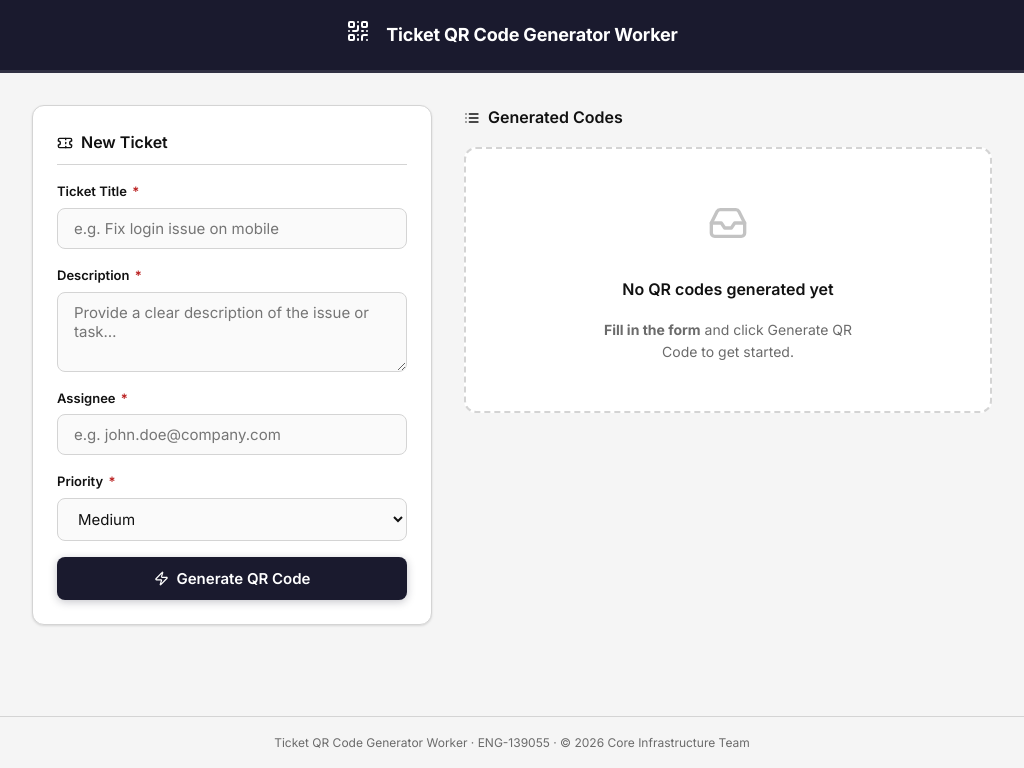
Scenario: App — Unhappy Path › shows validation errors when submitting empty form
This screenshot has width=1024, height=768.
Step 1. Click the button "Generate QR Code" → (232, 579), box [57,557,407,600]
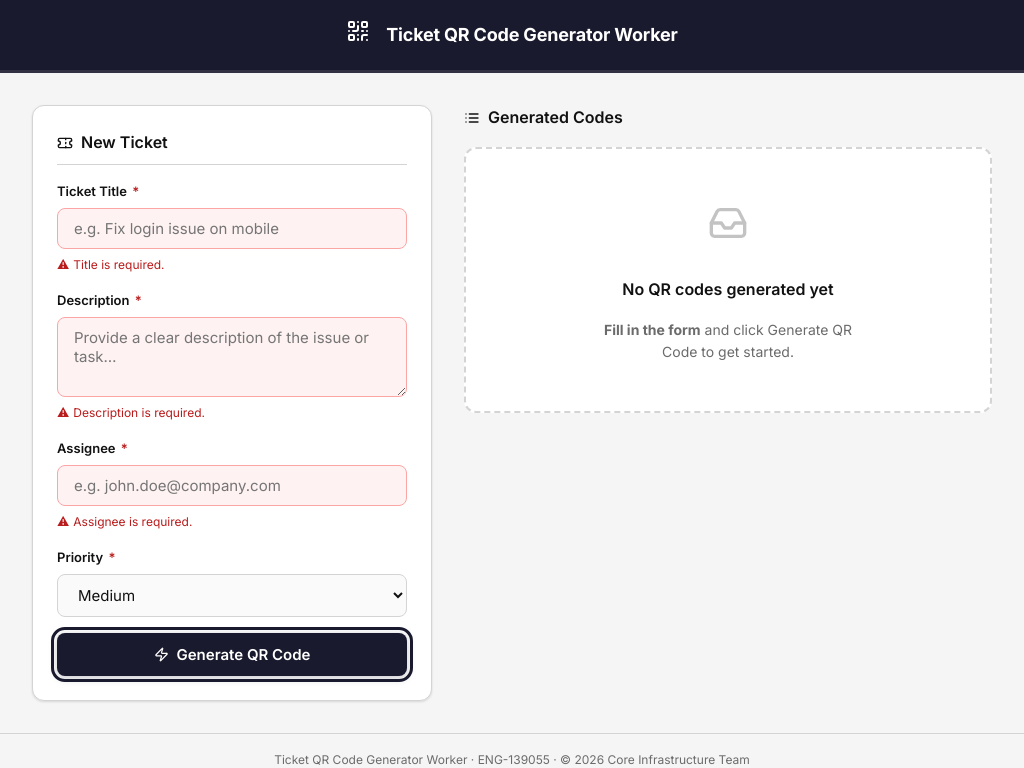
Expected: the text "⚠ Title is required." is shown, [57,257,165,272]
